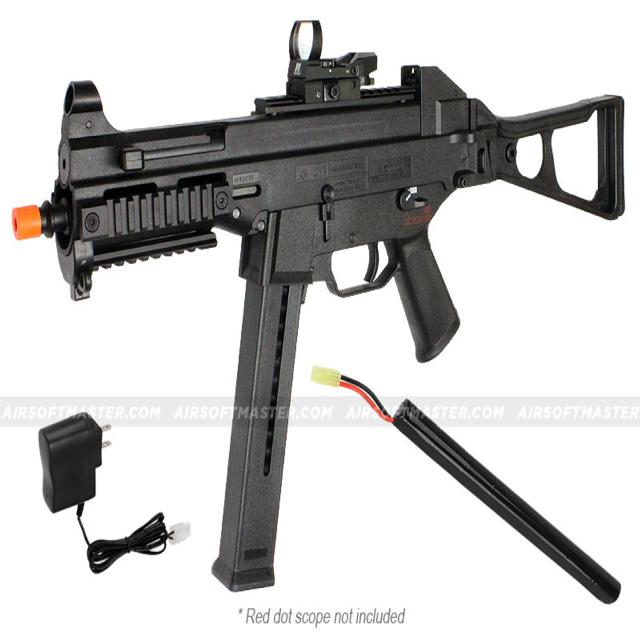SMG: (14, 21, 628, 597)
